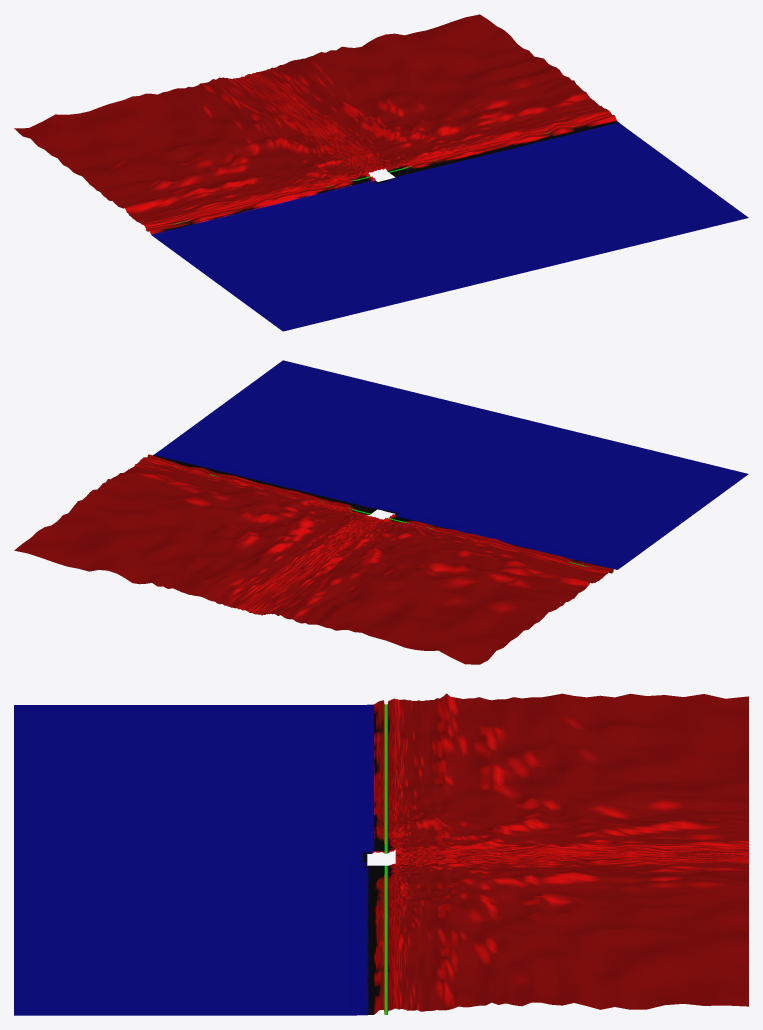
File: SM_FutureCity_Backdrop.fbx
3 renders of one model, top to bottom at view 1: azimuth 30°, elevation 25°; view 2: azimuth 150°, elevation 25°; view 3: azimuth 270°, elevation 25°, orthographic. The views are drawn at different scales.
Visible parts, largest first — view 1: SM_FutureCity_Backdrop; view 2: SM_FutureCity_Backdrop; view 3: SM_FutureCity_Backdrop.
Part boxes in pixels (bbox=[...]): SM_FutureCity_Backdrop: bbox=[14, 14, 748, 331]; SM_FutureCity_Backdrop: bbox=[14, 360, 748, 664]; SM_FutureCity_Backdrop: bbox=[14, 693, 748, 1015].
Size of the model in its own units: 5040346 by 119940 by 5040346.
